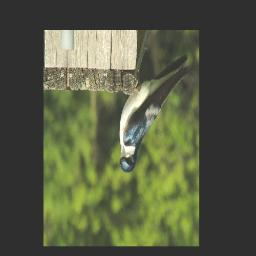Swallow: (118, 54, 192, 174)
